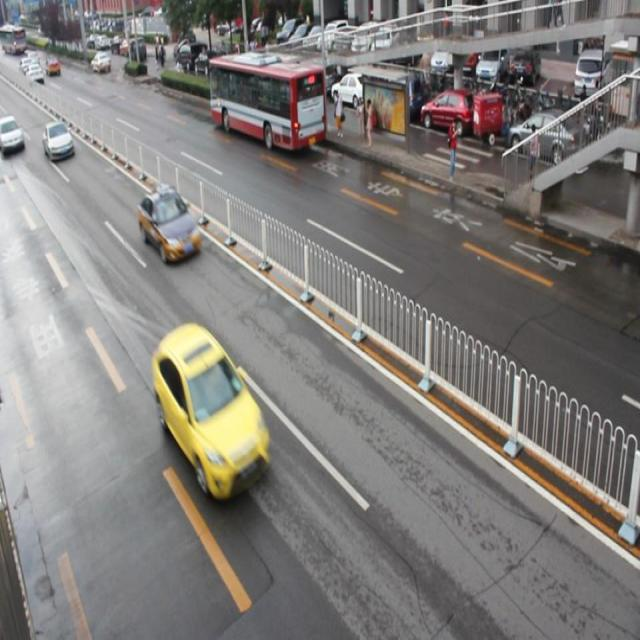car: (152, 320, 270, 500), (138, 186, 202, 264)
van: (209, 53, 324, 153)
